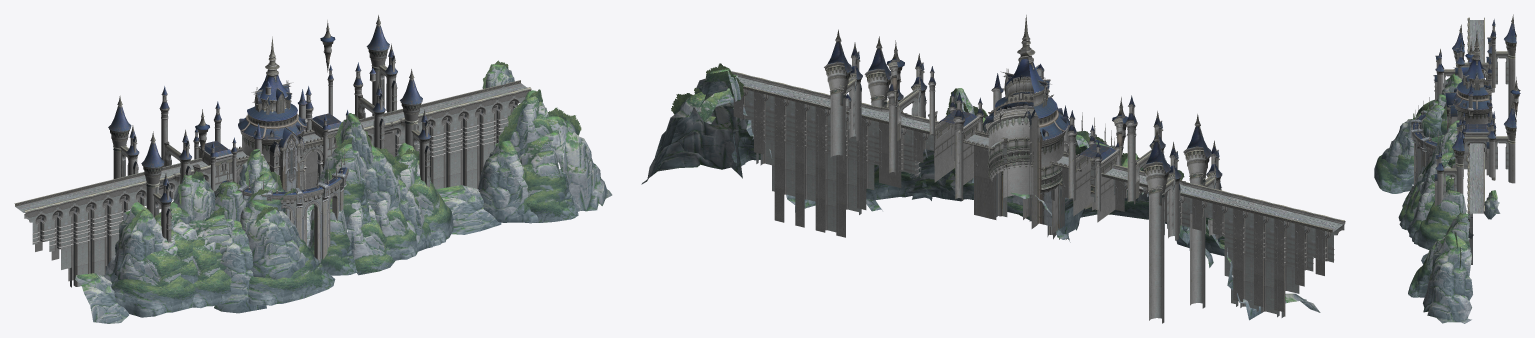
File: Castle.fbx
3 views of the same model, side by side, from view 1: azimuth 30°, elevation 25°; view 2: azimuth 150°, elevation 25°; view 3: azimuth 270°, elevation 25° (orthographic). The views are drawn at different scales.
Visible parts, largest first — view 1: Castle; view 2: Castle; view 3: Castle.
Part boxes in pixels (x1,y1,x2,y2): Castle: (14,15,612,323); Castle: (641,15,1345,323); Castle: (1374,14,1520,323).
Bounding box in the file's own units: 102 × 37.57 × 28.8.
Materials: 2 (2 with a texture image).
